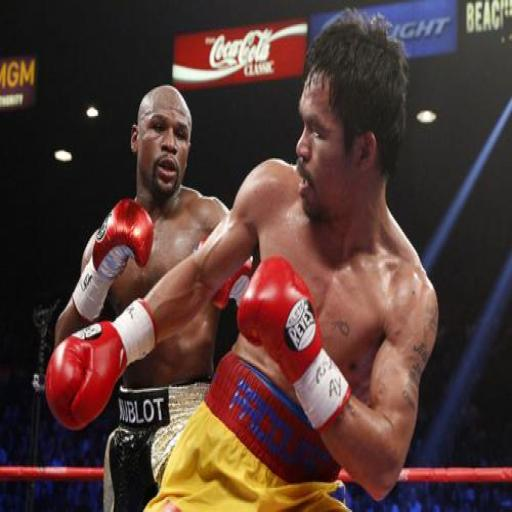boxing: (44, 8, 439, 510)
